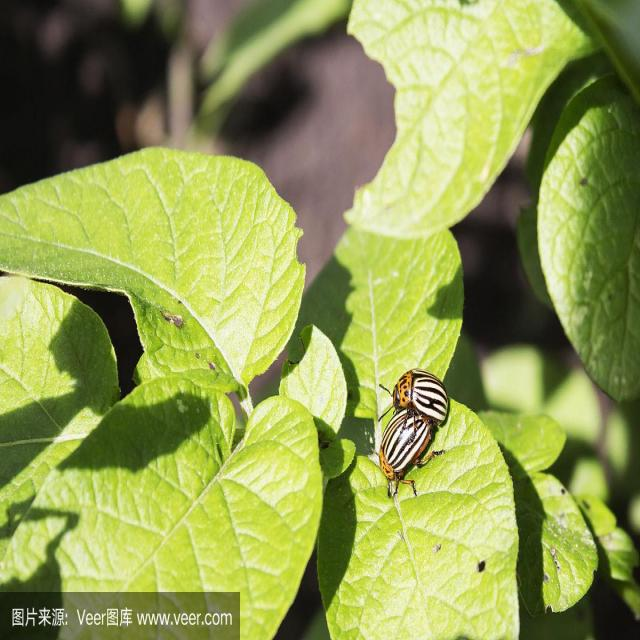ShuCaiHuaBanChong-Grown-: (389, 361, 462, 432), (376, 398, 436, 484)
